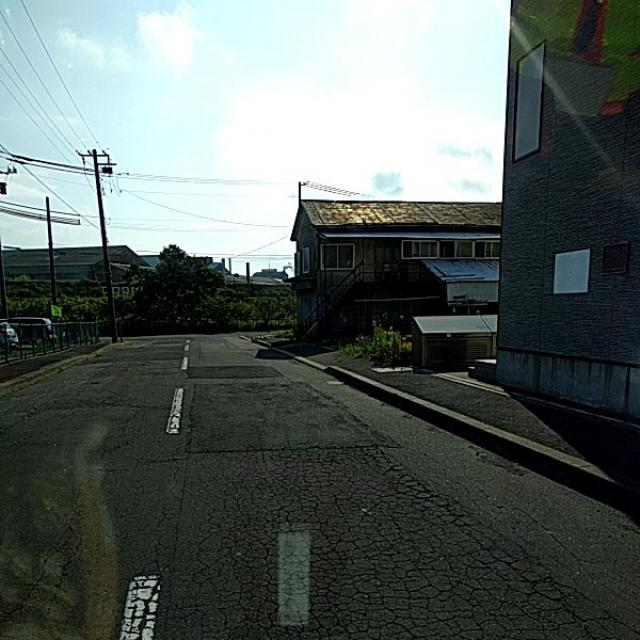pothole: (183, 396, 592, 632)
